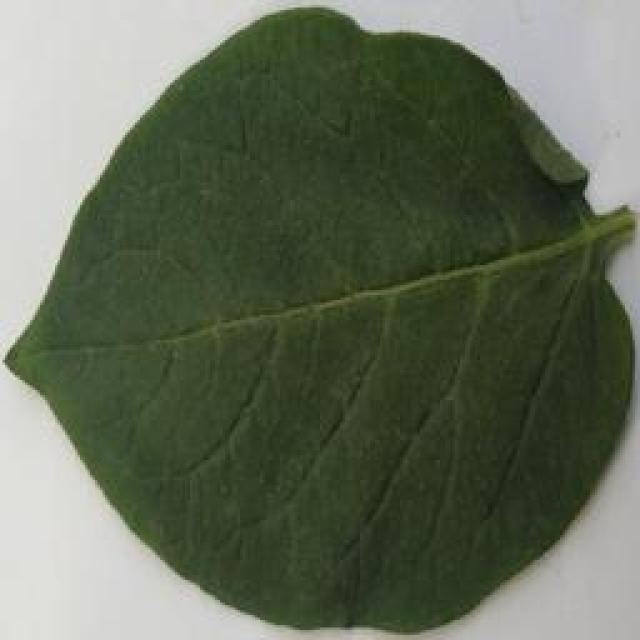Potato_Healthy: (9, 2, 640, 640)
